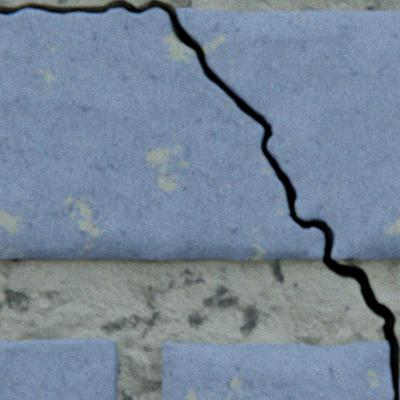brick: (0, 338, 119, 399)
broken_brick: (0, 9, 323, 260), (176, 9, 399, 259), (163, 341, 392, 399), (398, 378, 399, 397)
crack: (0, 0, 399, 399)
